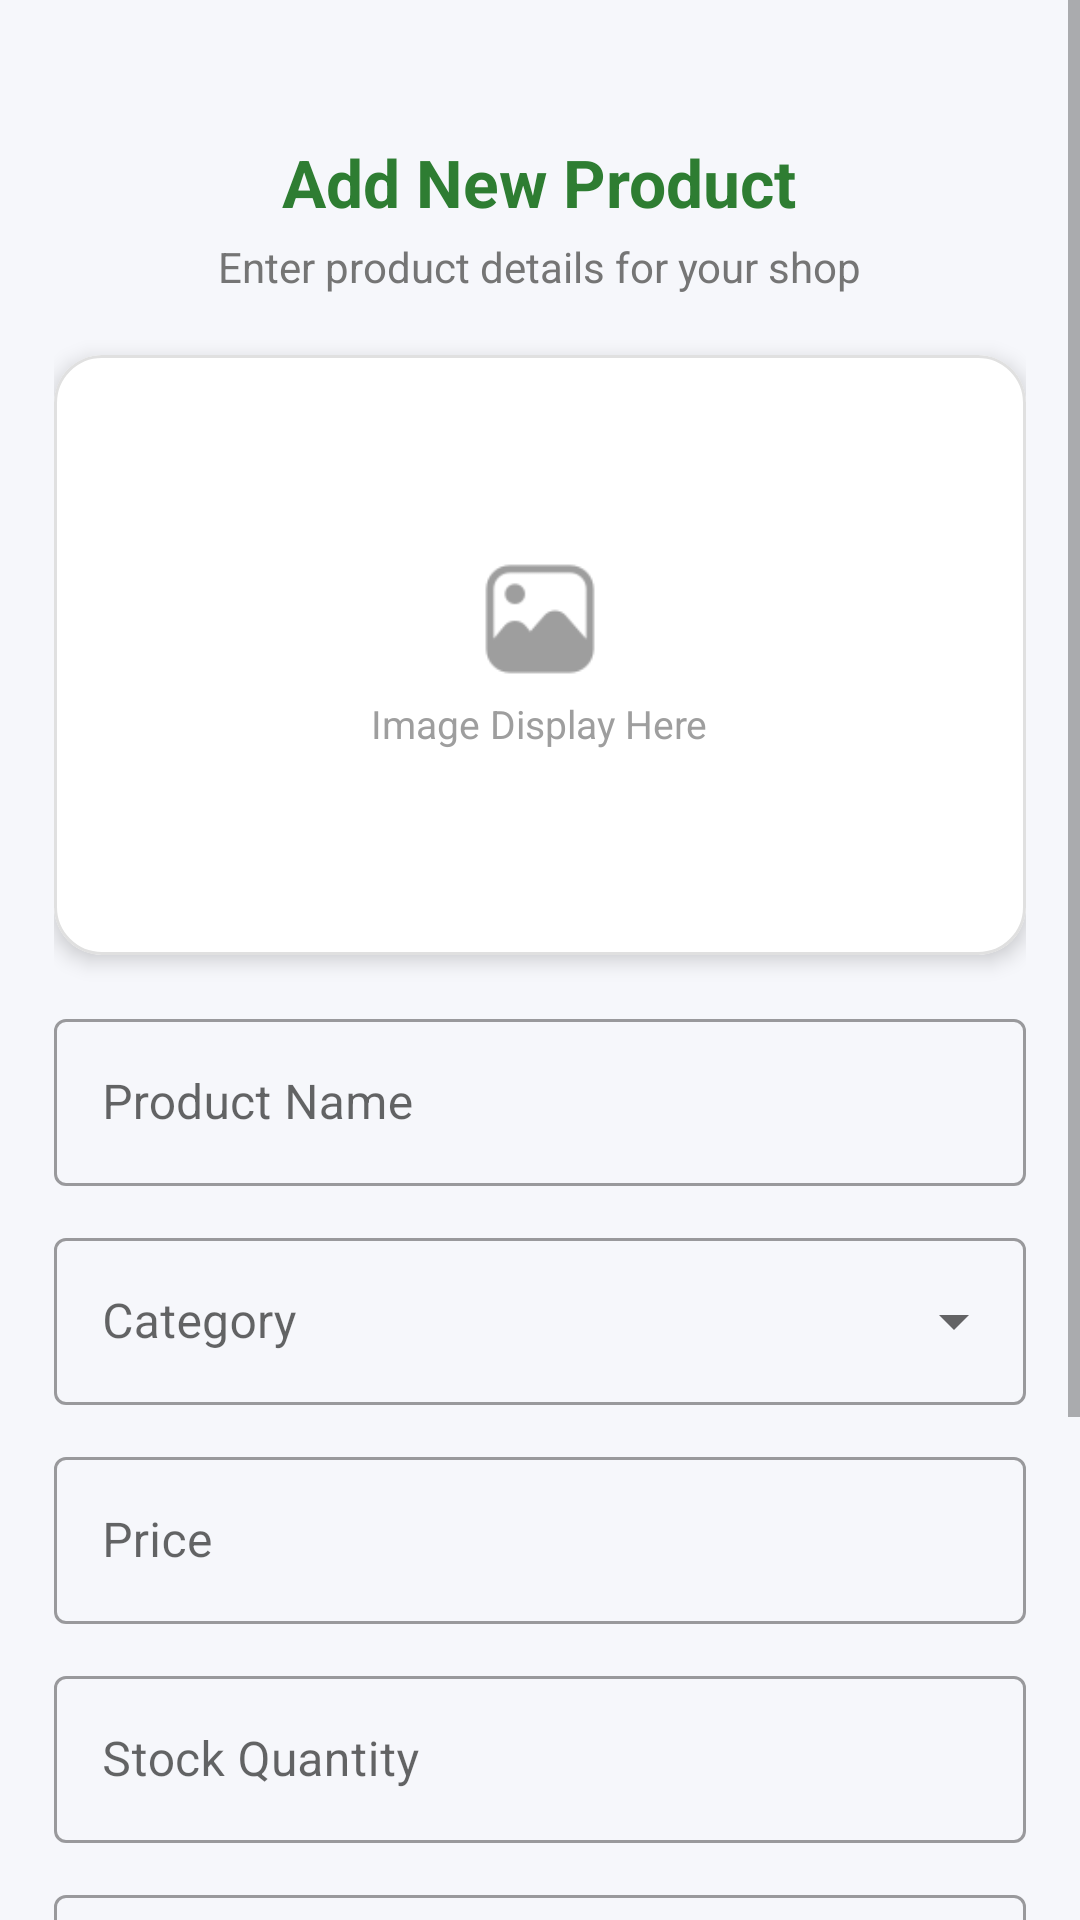

Icon click points for this 1080w x 1920h phone screenshot, format point (x, y):
gallary: point (540, 619)
